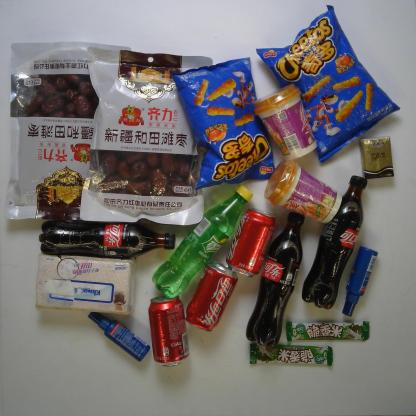Chocolate: (250, 344, 334, 366), (285, 321, 370, 342)
Dried Food: (79, 46, 213, 226), (3, 41, 132, 221)
Drink: (152, 184, 254, 298), (301, 175, 368, 309), (245, 211, 305, 349), (38, 220, 176, 260), (185, 260, 238, 332), (226, 206, 276, 278), (148, 295, 189, 367)
Instant Drink: (263, 159, 342, 224), (253, 82, 317, 160)
Personal Hygiene: (87, 312, 150, 362), (342, 245, 378, 317)
Puffed Food: (256, 5, 400, 164), (169, 57, 275, 190)
Tissue: (35, 252, 135, 315), (359, 135, 394, 180)
